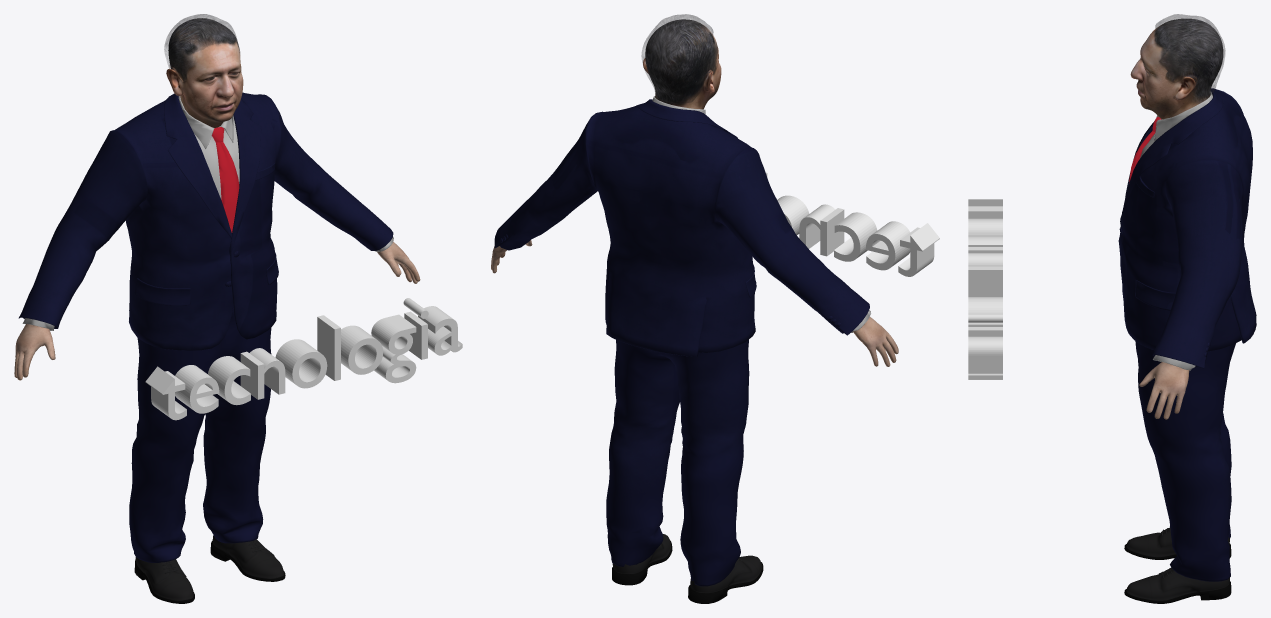
3 renders of one model, left to right at view 1: azimuth 30°, elevation 25°; view 2: azimuth 150°, elevation 25°; view 3: azimuth 270°, elevation 25°, orthographic.
Parts seen in each view (by area): view 1: saco, pantalon, Tecnologoa, cabeza, zapatos, pelo, manos, camisa, corbata; view 2: saco, pantalon, Tecnologoa, cabeza, pelo, zapatos, manos; view 3: saco, pantalon, cabeza, Tecnologoa, pelo, zapatos, manos, camisa.
Part boxes in pixels (bbox=[...]): saco: bbox=[18, 92, 393, 350]; pantalon: bbox=[129, 305, 271, 562]; Tecnologoa: bbox=[145, 298, 462, 420]; cabeza: bbox=[166, 18, 243, 127]; zapatos: bbox=[134, 535, 285, 603]; pelo: bbox=[164, 14, 240, 81]; manos: bbox=[14, 242, 420, 380]; camisa: bbox=[22, 96, 393, 330]; corbata: bbox=[212, 127, 239, 232]; saco: bbox=[494, 99, 869, 356]; pantalon: bbox=[606, 339, 749, 586]; Tecnologoa: bbox=[766, 172, 939, 276]; cabeza: bbox=[643, 19, 721, 109]; pelo: bbox=[641, 14, 717, 103]; zapatos: bbox=[612, 534, 763, 603]; manos: bbox=[491, 240, 898, 366]; saco: bbox=[1118, 88, 1256, 368]; pantalon: bbox=[1135, 341, 1235, 581]; cabeza: bbox=[1130, 18, 1223, 119]; Tecnologoa: bbox=[968, 199, 1002, 379]; pelo: bbox=[1155, 14, 1225, 98]; zapatos: bbox=[1124, 527, 1231, 603]; manos: bbox=[1139, 362, 1189, 419]; camisa: bbox=[1140, 91, 1212, 370].
Size of the model in its own units: 1.3 by 1.72 by 0.8086.
Materials: 8 (7 with a texture image).
